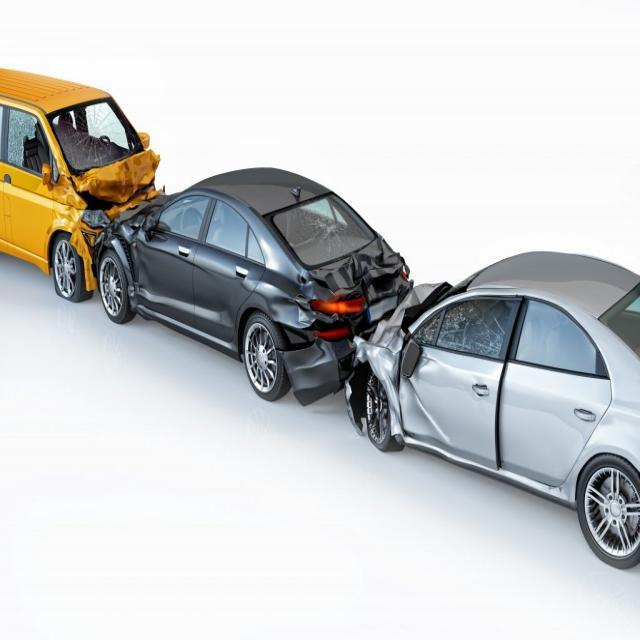accident: (94, 180, 640, 497), (6, 46, 366, 380)
